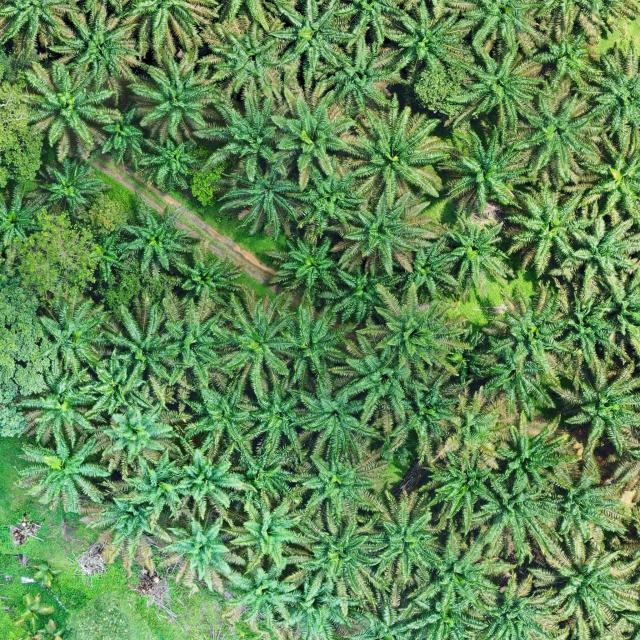Tree: (516, 528, 639, 640), (339, 92, 454, 210), (358, 282, 478, 380), (430, 116, 544, 216), (326, 182, 444, 276), (15, 60, 122, 163), (289, 508, 391, 616), (497, 85, 607, 185), (325, 334, 437, 430), (190, 84, 298, 182), (495, 175, 597, 278), (404, 530, 520, 619), (207, 288, 296, 400), (266, 84, 358, 190), (196, 10, 300, 101), (5, 211, 104, 306), (550, 356, 640, 460), (126, 51, 224, 145), (42, 2, 143, 92), (12, 429, 110, 519), (288, 375, 388, 463), (78, 489, 176, 576), (90, 296, 174, 396), (556, 204, 639, 304), (170, 444, 264, 532), (262, 0, 359, 85), (311, 34, 409, 118), (413, 442, 502, 534), (466, 338, 562, 422), (272, 298, 353, 396), (157, 513, 247, 600), (9, 365, 101, 450), (478, 419, 578, 497), (364, 489, 444, 583), (460, 44, 547, 130), (299, 452, 387, 537), (213, 563, 308, 640), (221, 152, 306, 237), (381, 378, 464, 464), (431, 384, 511, 473), (379, 0, 476, 73), (482, 284, 572, 362), (183, 374, 261, 464), (38, 285, 114, 375), (467, 477, 563, 548), (222, 491, 302, 576), (286, 160, 370, 240), (552, 282, 631, 366), (98, 402, 190, 474), (548, 462, 632, 540), (114, 202, 190, 280), (438, 208, 509, 290), (574, 136, 640, 224), (230, 439, 308, 513), (156, 299, 222, 386), (114, 444, 192, 517), (270, 229, 342, 308), (317, 262, 407, 324), (530, 22, 610, 91), (588, 35, 640, 141), (166, 234, 244, 304), (85, 347, 158, 421), (276, 572, 353, 640), (400, 586, 494, 640), (390, 234, 466, 298), (245, 383, 307, 458), (36, 154, 98, 214), (138, 139, 200, 195), (0, 119, 45, 183), (97, 107, 144, 164), (87, 195, 127, 234)
